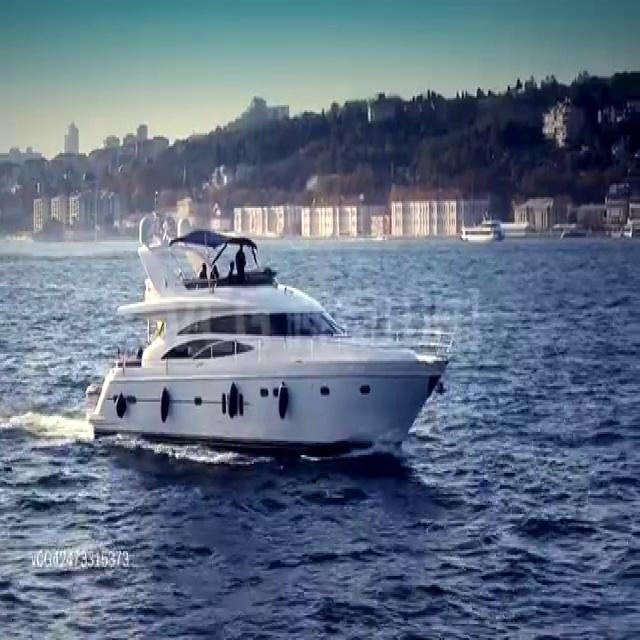houseboat: (85, 207, 445, 470)
